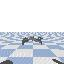drone: (21, 35, 43, 45)
